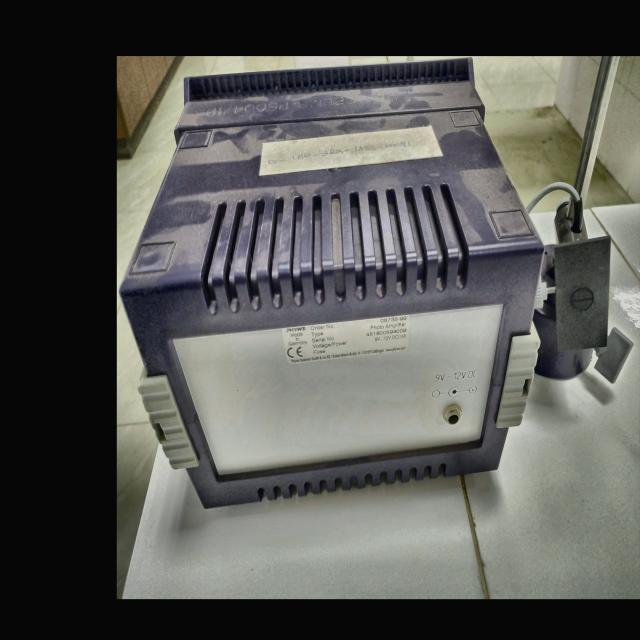Photo Amplifier Power Supply: (117, 60, 601, 525)
